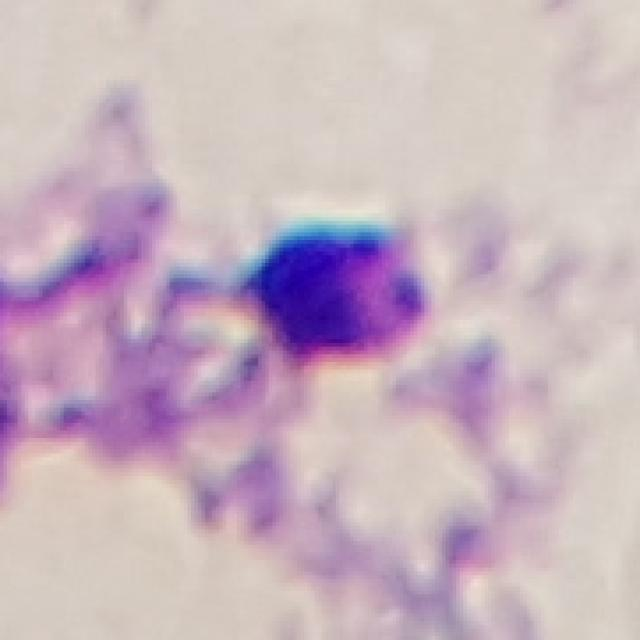non-sperm: (0, 184, 430, 364)
